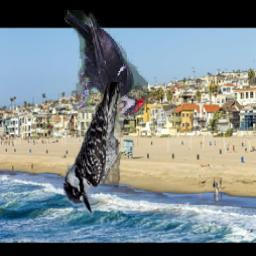Woodpecker: (62, 82, 136, 217), (63, 11, 147, 127)
